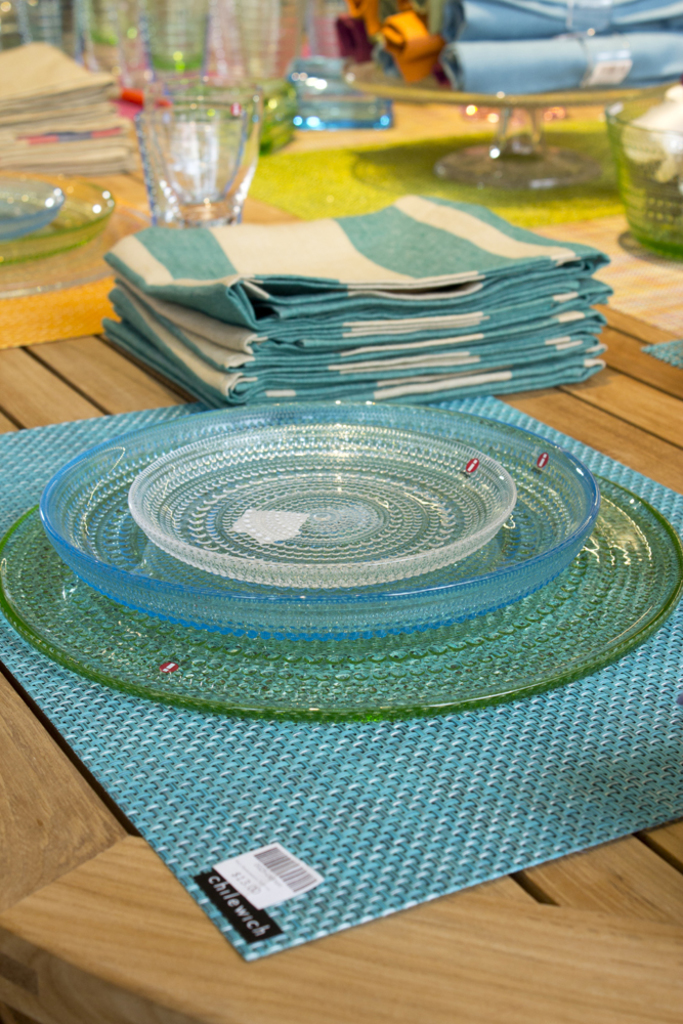plate: (124, 419, 517, 593), (126, 422, 514, 588)
